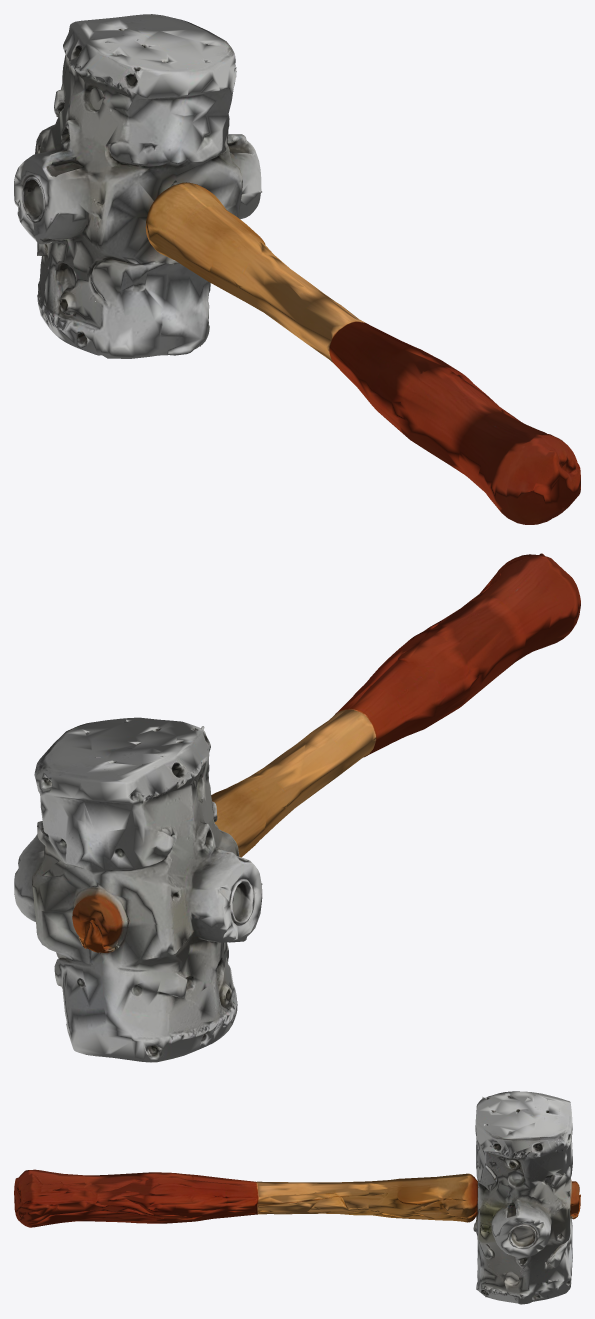
Rendered from martelo.glb.
The picture shows the model from 3 angles, top to bottom: view 1: azimuth 30°, elevation 25°; view 2: azimuth 150°, elevation 25°; view 3: azimuth 270°, elevation 25°; orthographic projection. The views are drawn at different scales.
Visible parts, largest first — view 1: martelo; view 2: martelo; view 3: martelo.
Part boxes in pixels (x1,y1,x2,y2): martelo: (14, 14, 580, 524); martelo: (14, 553, 580, 1062); martelo: (14, 1091, 580, 1304).
Size of the model in its own units: 0.1201 by 0.1589 by 0.4418.
1 material, 1 textured.
